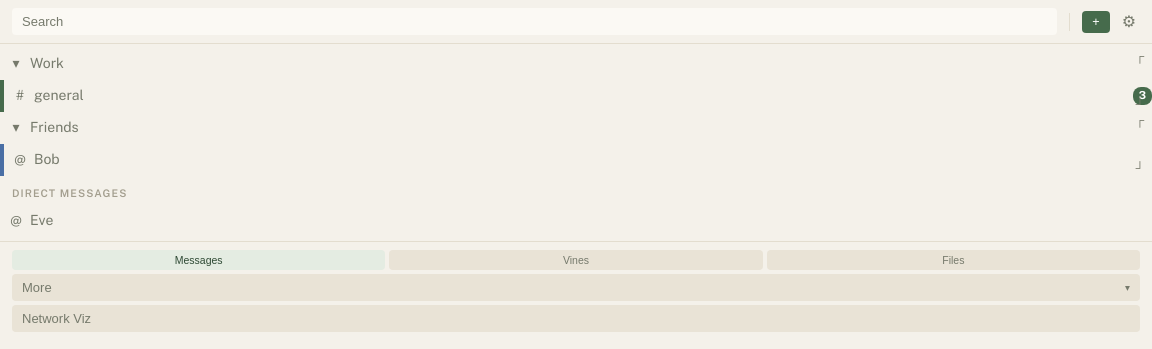
Scenario: NavPanel › FAB + fan-out menu (ZEB-263) › clicking "+" opens the fan-out menu with 4 items
The width and height of the screenshot is (1152, 349).
What coordinates should you click on to do the following:
click the button named "Create new"
I would click on:
 (1096, 22)
Its box is [1082,10,1110,32].
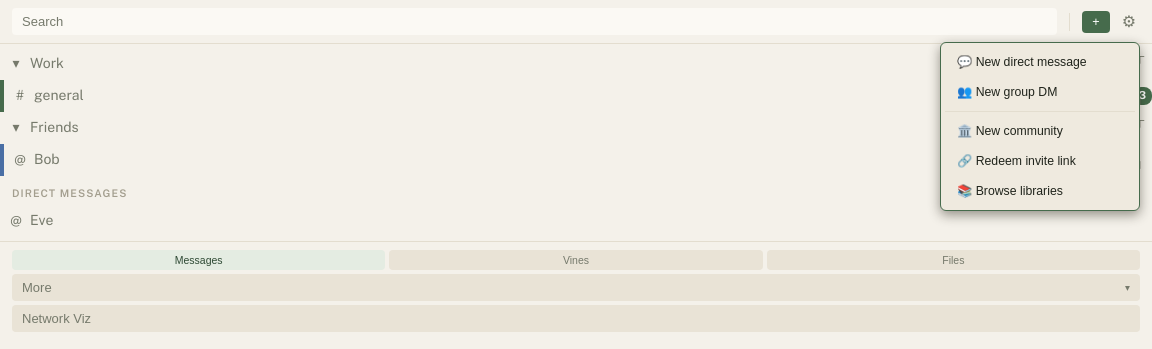
Now the menu item "💬 New direct message" is shown, box [945,47,1135,77]
Now the menu item "👥 New group DM" is shown, box [945,77,1135,107]
Now the menu item "🏛️ New community" is shown, box [945,116,1135,146]
